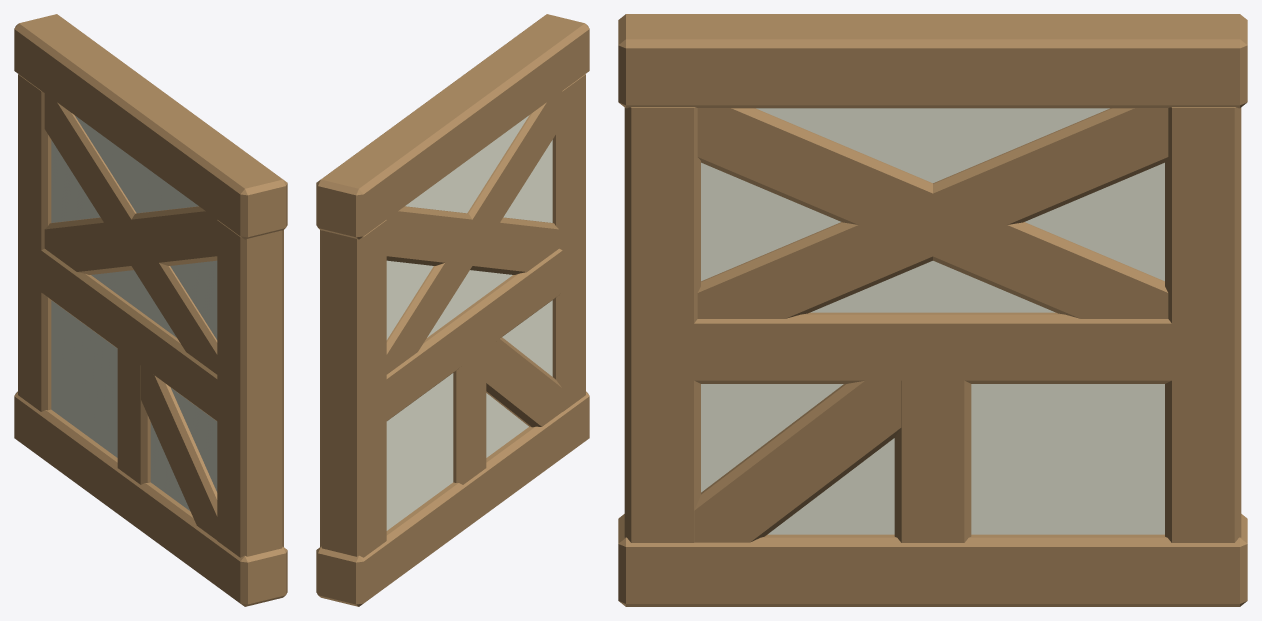
File: BaseWall_10.fbx
The picture shows the model from 3 angles, left to right: view 1: azimuth 30°, elevation 25°; view 2: azimuth 150°, elevation 25°; view 3: azimuth 270°, elevation 25°; orthographic projection. The views are drawn at different scales.
Parts seen in each view (by area): view 1: BaseWall.017; view 2: BaseWall.017; view 3: BaseWall.017.
Boxes of the visible parts, x1,y1,x2,y2 form: BaseWall.017: (14, 14, 287, 606); BaseWall.017: (316, 14, 589, 606); BaseWall.017: (618, 14, 1247, 606).
Size of the model in its own units: 0.2753 by 2.32 by 2.33.
